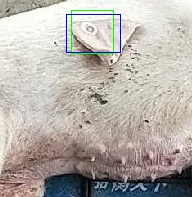text: (71, 10, 113, 53)
